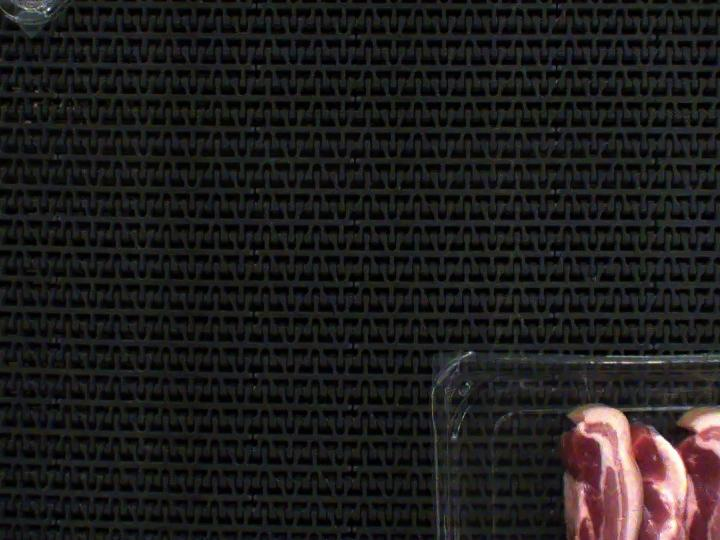packaging-error: (571, 368, 601, 409)
